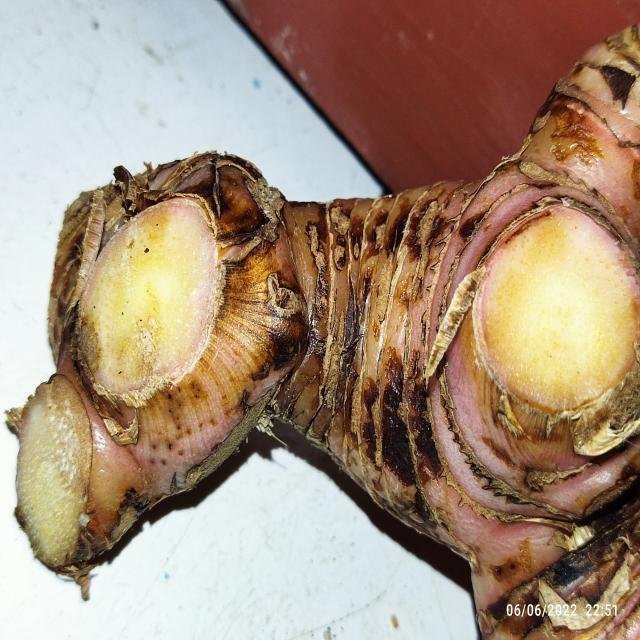ginger: (53, 41, 640, 634)
